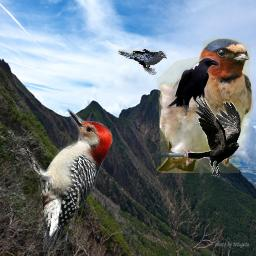Crow: (187, 96, 242, 179), (165, 56, 220, 118), (118, 49, 167, 75)
Swallow: (156, 38, 255, 173)
Woodpecker: (14, 106, 117, 256)
